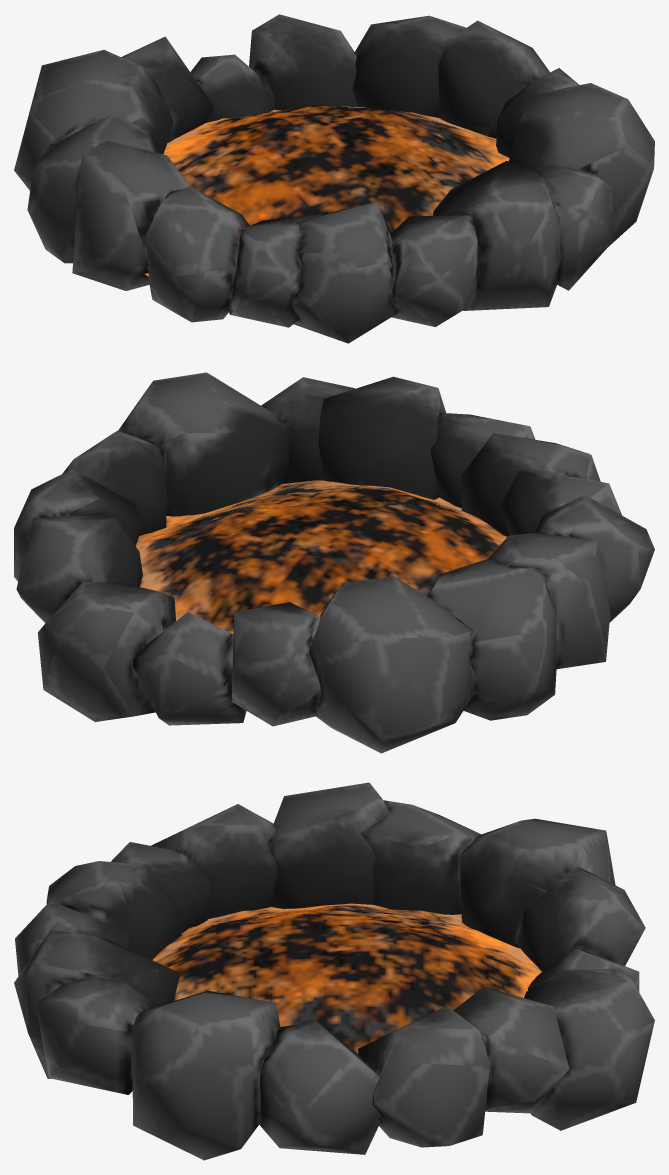
The model's file is campfire.fbx.
3 renders of one model, top to bottom at view 1: azimuth 30°, elevation 25°; view 2: azimuth 150°, elevation 25°; view 3: azimuth 270°, elevation 25°, orthographic. The views are drawn at different scales.
Parts seen in each view (by area): view 1: campfire; view 2: campfire; view 3: campfire.
Boxes of the visible parts, <box> form: campfire: <box>14,14,654,343</box>; campfire: <box>14,372,654,753</box>; campfire: <box>14,782,654,1160</box>.
Size of the model in its own units: 2.26 by 0.6191 by 2.2.
Materials: 1 (1 with a texture image).
